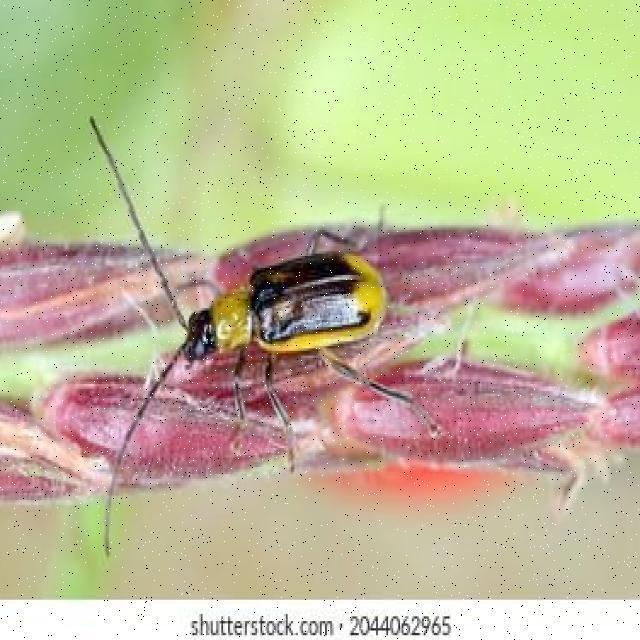trips: (92, 120, 446, 556)
